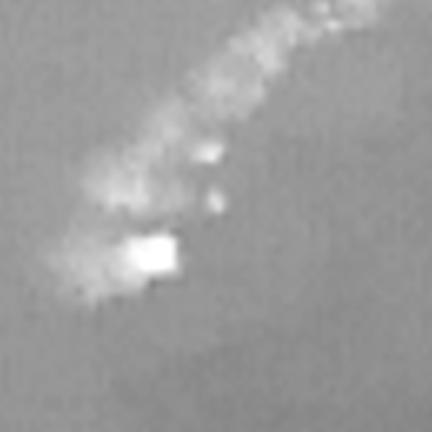flukeprints: (128, 233, 178, 275), (192, 138, 225, 165), (205, 186, 227, 215)
